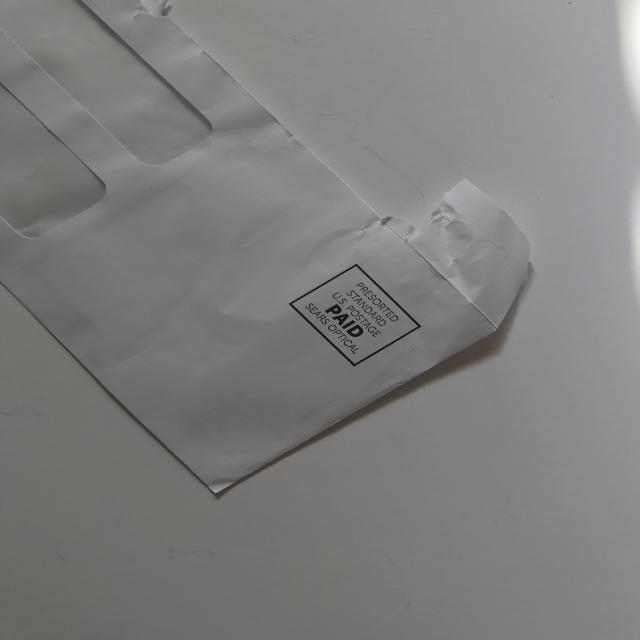paper: (1, 0, 533, 497)
